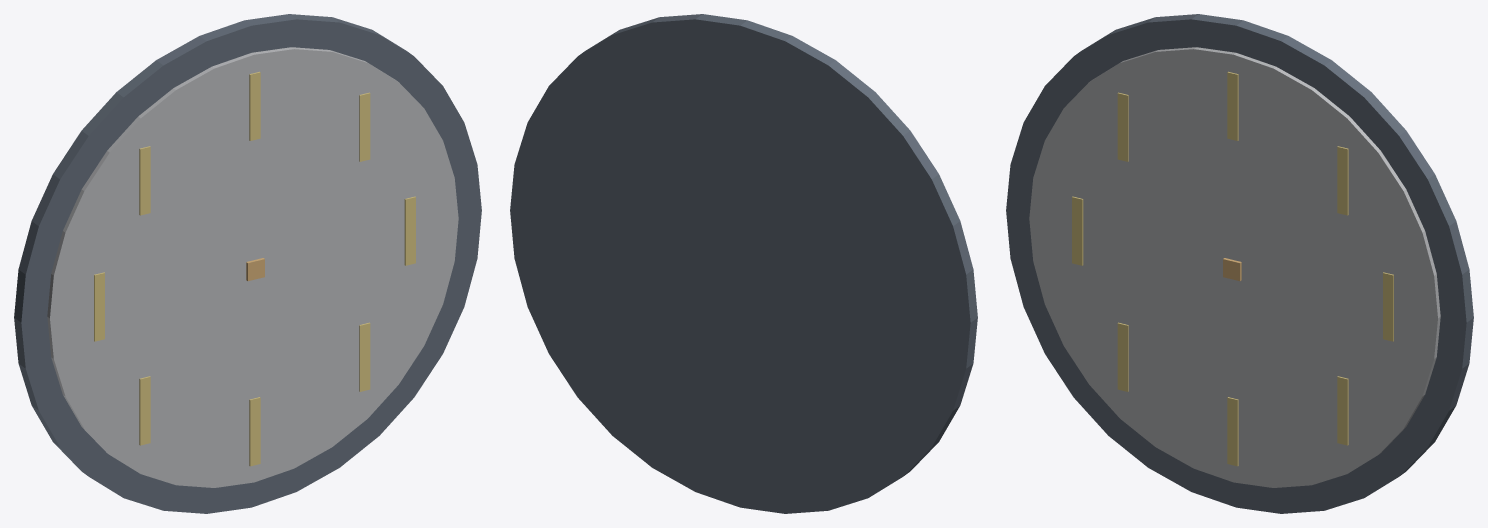
The model's file is landing_pad.glb.
3 views of the same model, side by side, from view 1: azimuth 30°, elevation 25°; view 2: azimuth 150°, elevation 25°; view 3: azimuth 330°, elevation 25° (orthographic).
Parts seen in each view (by area): view 1: landing_pad_1, landing_pad_0, landing_pad_7, landing_pad_3, landing_pad_5, landing_pad_8, landing_pad_2, landing_pad_4, landing_pad_9, landing_pad_6; view 2: landing_pad_0; view 3: landing_pad_1, landing_pad_0, landing_pad_9, landing_pad_3, landing_pad_5, landing_pad_8, landing_pad_4, landing_pad_6, landing_pad_7, landing_pad_2.
Boxes of the visible parts, x1,y1,x2,y2 form: landing_pad_1: [47, 47, 458, 487]; landing_pad_0: [14, 14, 481, 513]; landing_pad_7: [139, 376, 150, 445]; landing_pad_3: [359, 92, 370, 161]; landing_pad_5: [139, 146, 150, 215]; landing_pad_8: [249, 397, 260, 466]; landing_pad_2: [404, 196, 415, 265]; landing_pad_4: [249, 71, 260, 140]; landing_pad_9: [359, 322, 370, 391]; landing_pad_6: [94, 272, 104, 341]; landing_pad_0: [510, 14, 977, 513]; landing_pad_1: [1029, 47, 1440, 487]; landing_pad_0: [1006, 14, 1473, 513]; landing_pad_9: [1337, 376, 1348, 445]; landing_pad_3: [1337, 146, 1348, 215]; landing_pad_5: [1117, 92, 1128, 161]; landing_pad_8: [1227, 397, 1238, 466]; landing_pad_4: [1227, 71, 1238, 140]; landing_pad_6: [1072, 196, 1083, 265]; landing_pad_7: [1117, 322, 1128, 391]; landing_pad_2: [1383, 272, 1393, 341].
Size of the model in its own units: 8 by 8 by 0.365.
